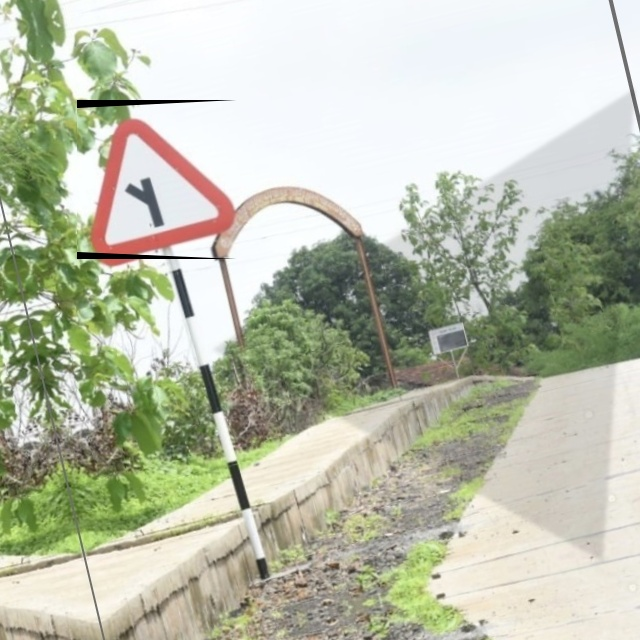Y_Intersection: (77, 100, 237, 259)
